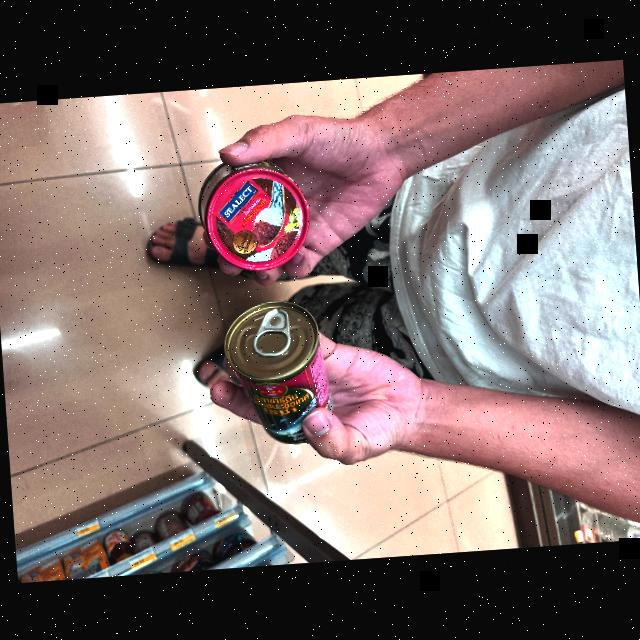can: (216, 291, 344, 454), (196, 155, 316, 277)
